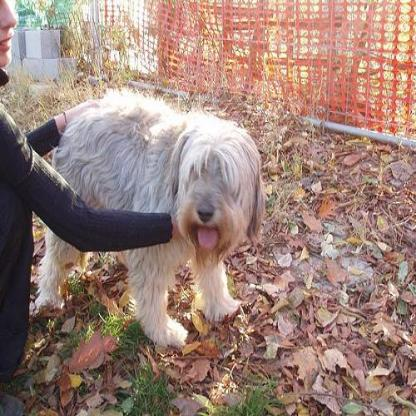Old_English_sheepdog: (37, 91, 266, 347)
